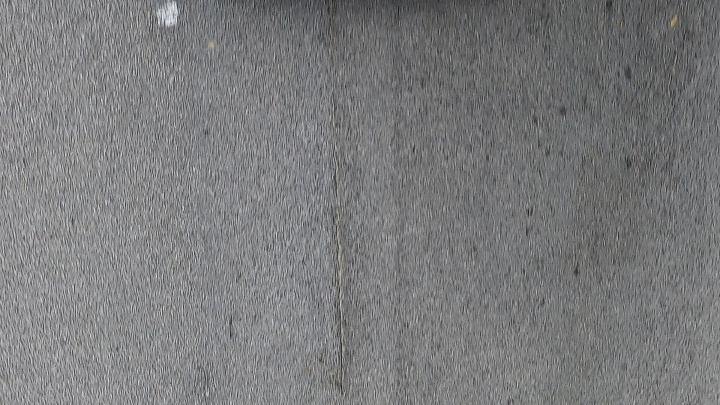Crack: (321, 94, 350, 405), (331, 145, 345, 393), (331, 97, 336, 132)
